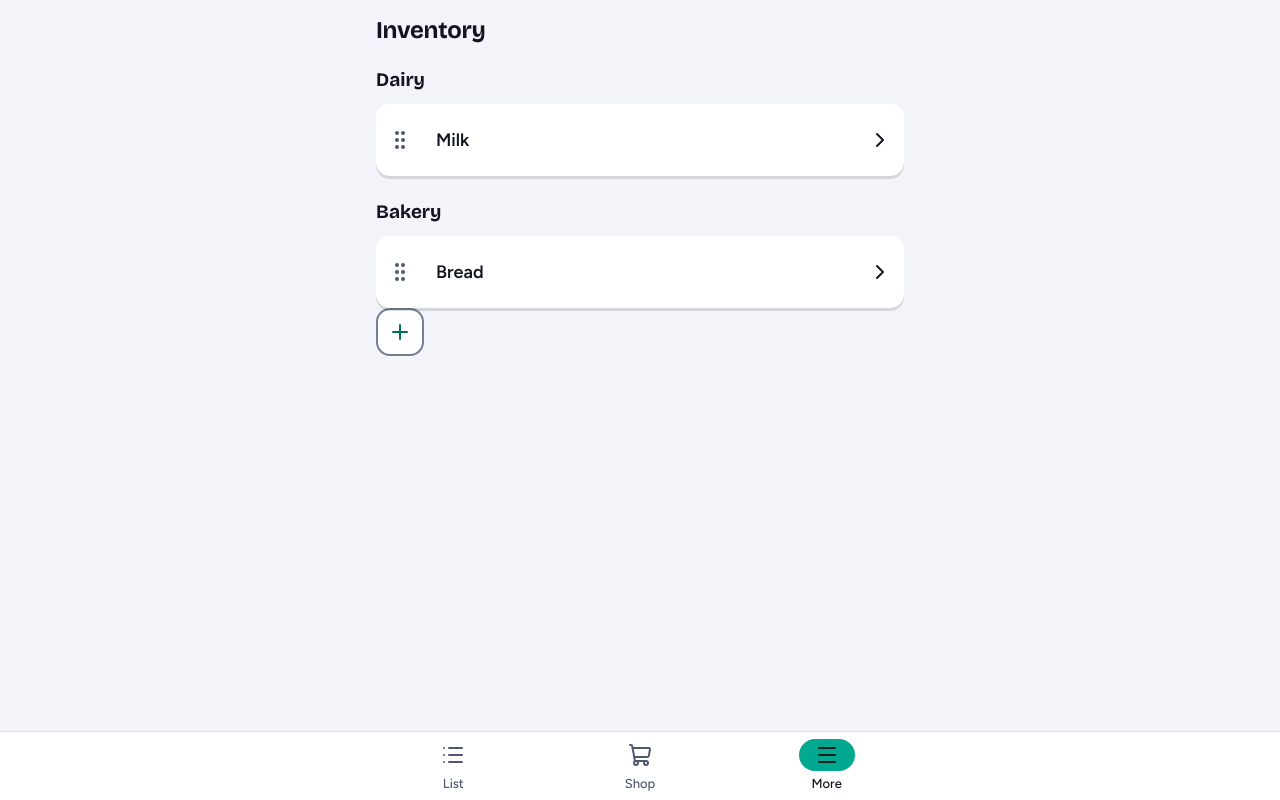
Adding a custom category on Inventory › asks for a name and nothing else, and offers Cancel
Expected: the field labelled "Category name" is not shown
Click the button named "Add Category": (400, 332) top-left (376, 308), bottom-right (424, 356)
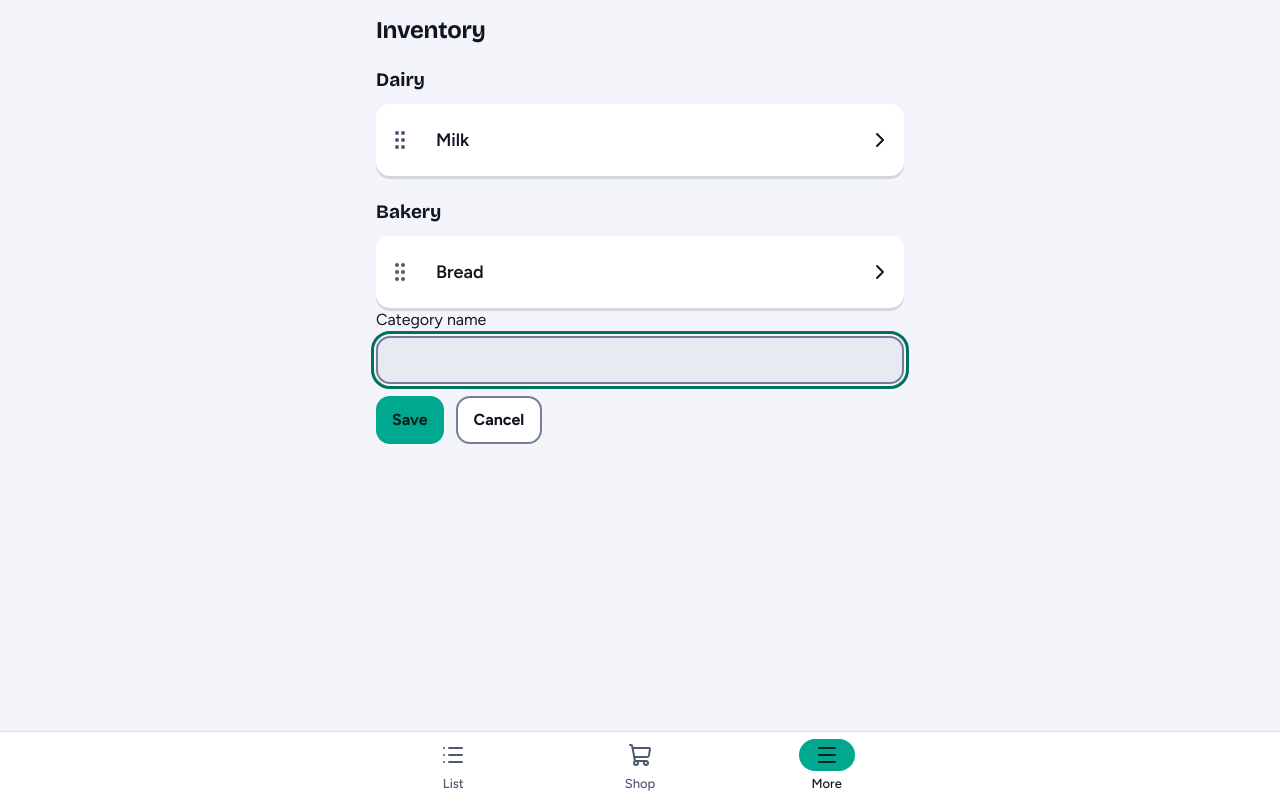
Result: the number of fields is 1 at top-left (376, 336), bottom-right (904, 384)
Click the button "Cancel": (499, 420) top-left (456, 396), bottom-right (542, 444)
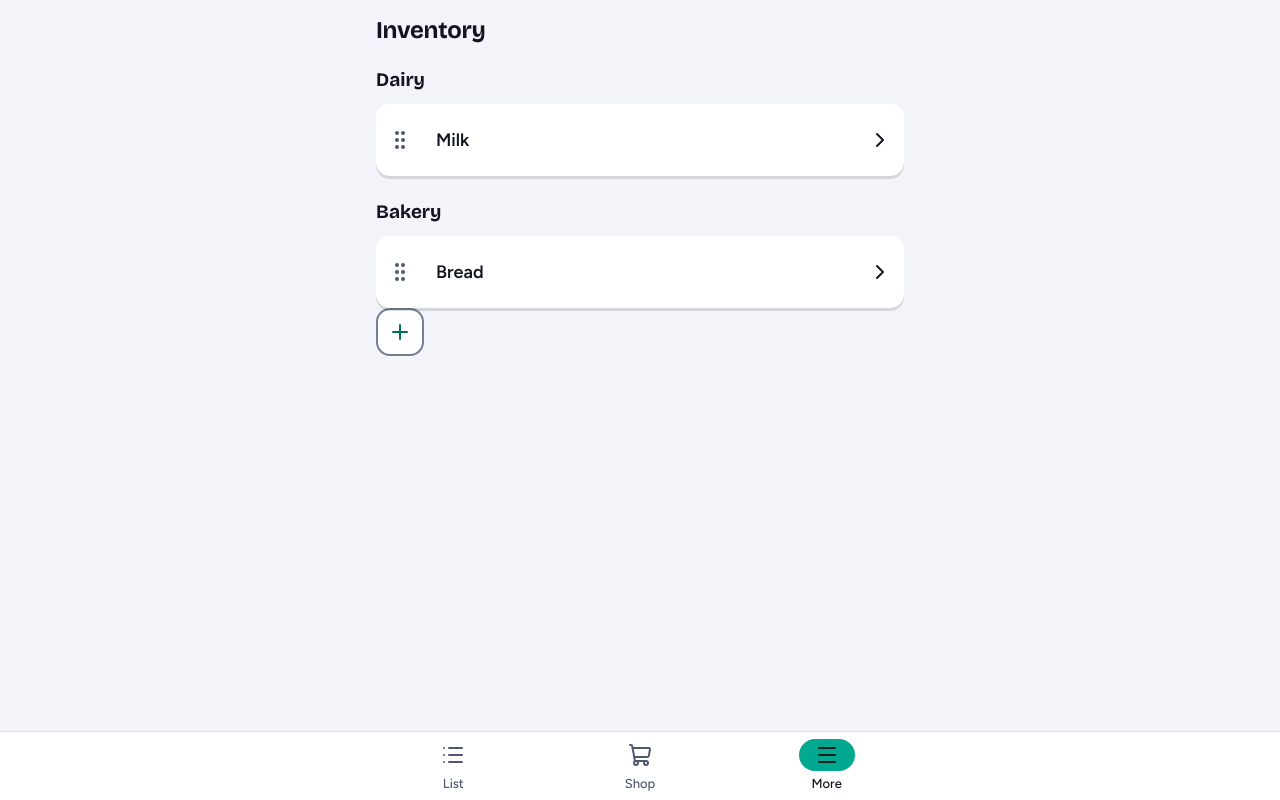
Result: the label labelled "Category name" is gone
